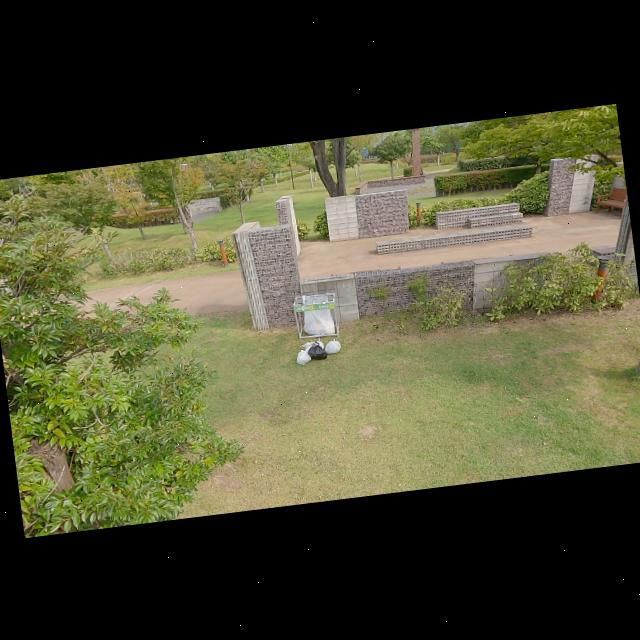trash: (306, 339, 328, 362), (300, 333, 326, 352), (322, 334, 342, 357), (292, 346, 312, 365)
